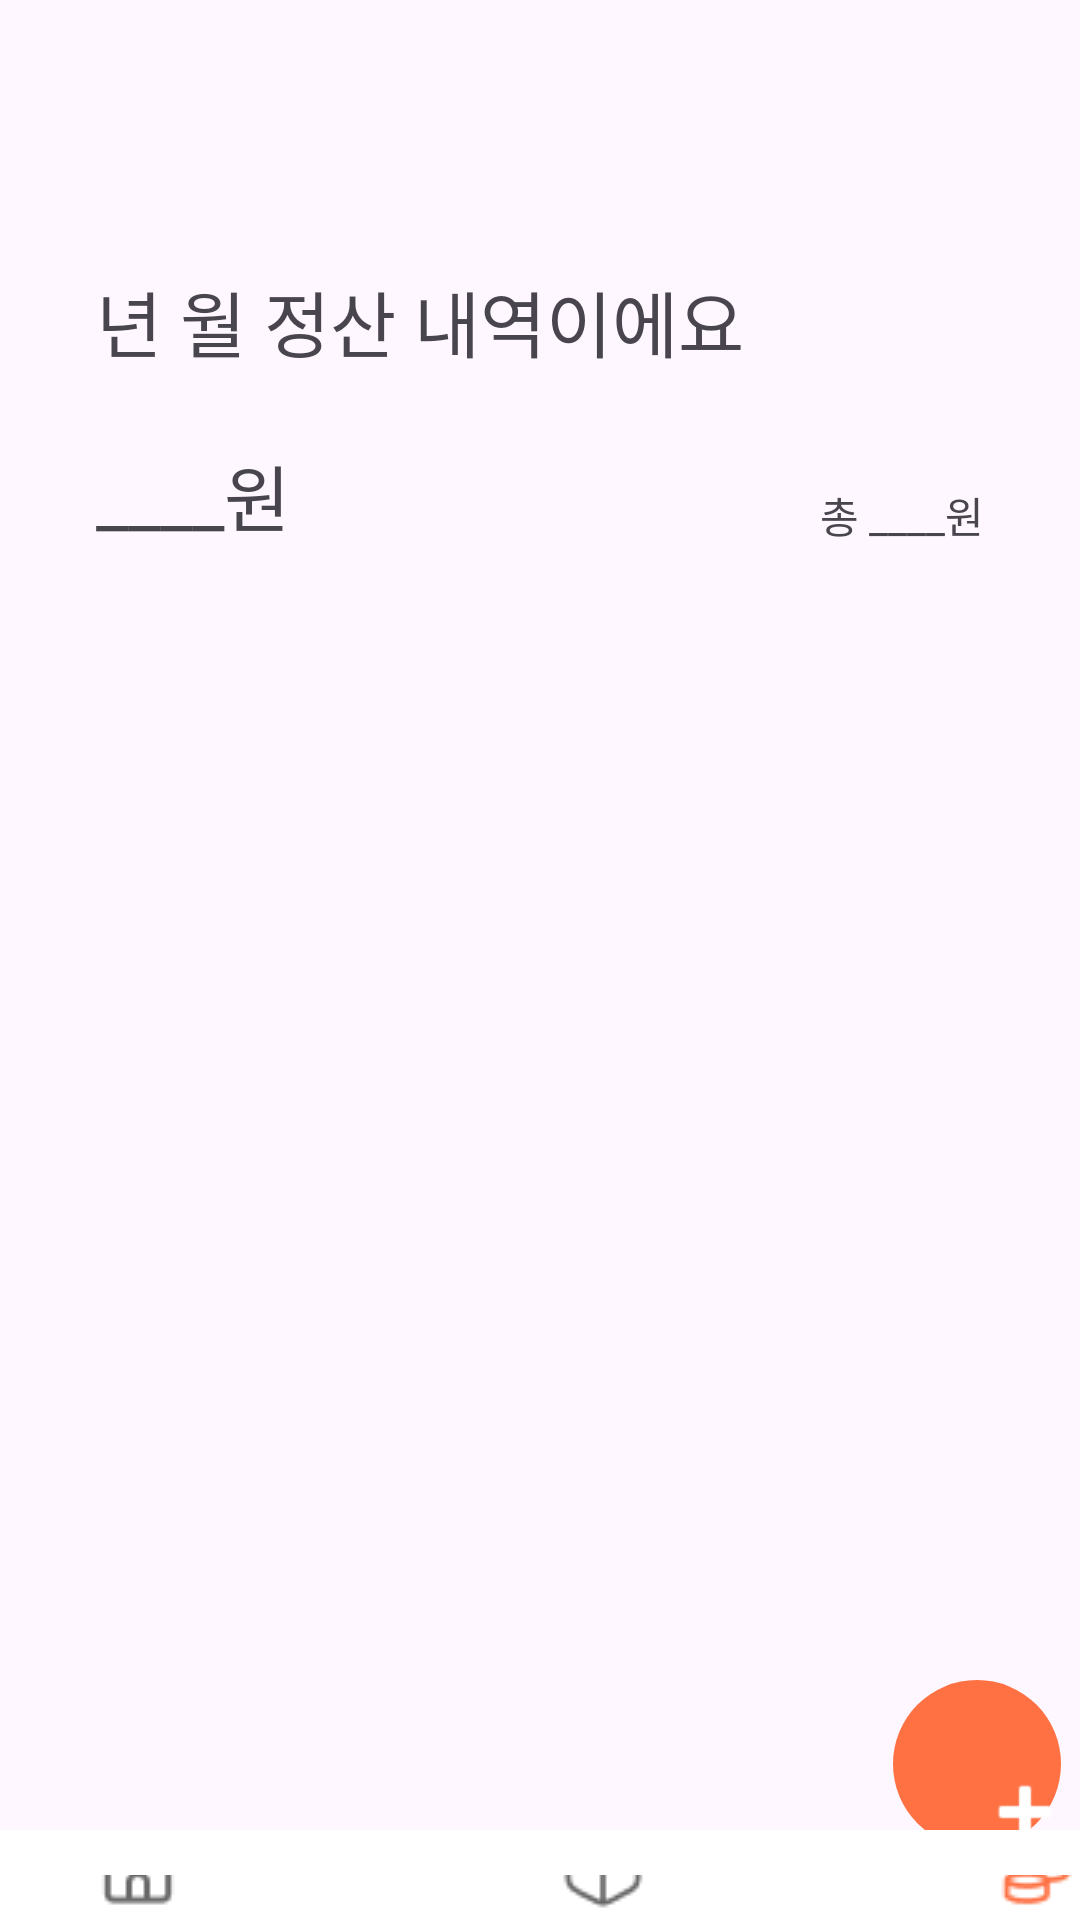

Screen size 1080 x 1920. Icon name, then its center in pixels as point (x, y):
add: point (977, 1755)
